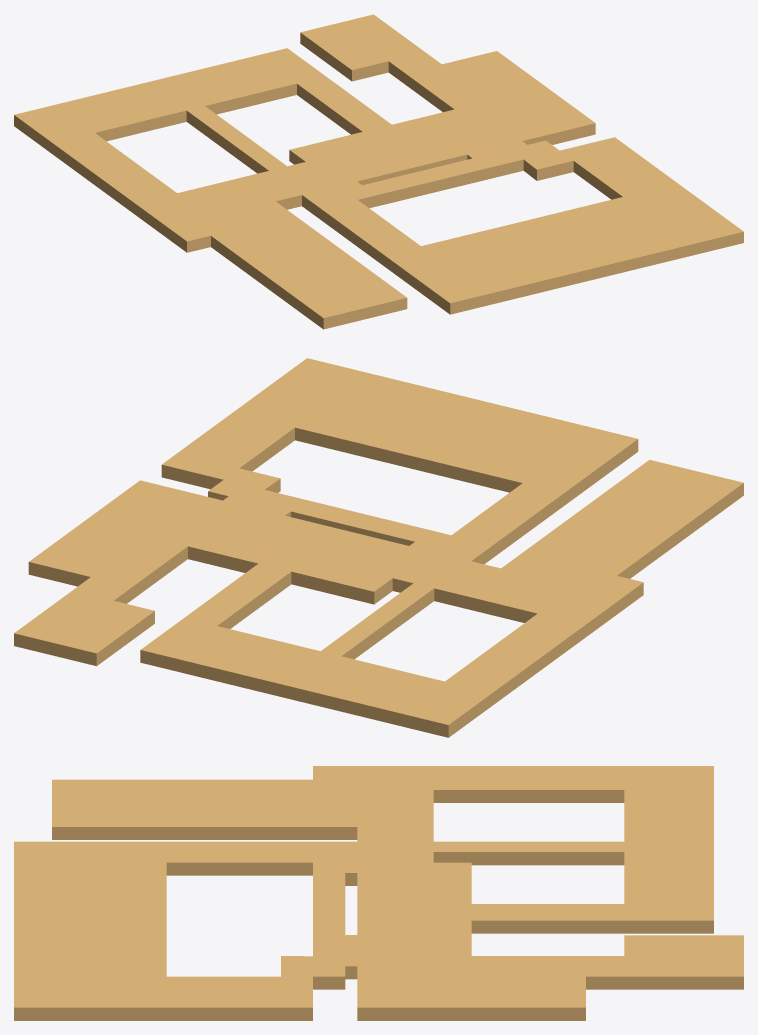
Rendered from untitleddaqaawd 1.fbx.
The picture shows the model from 3 angles, top to bottom: view 1: azimuth 30°, elevation 25°; view 2: azimuth 150°, elevation 25°; view 3: azimuth 270°, elevation 25°; orthographic projection. The views are drawn at different scales.
Parts seen in each view (by area): view 1: Cube.098; view 2: Cube.098; view 3: Cube.098.
Part boxes in pixels (x1,y1,x2,y2): Cube.098: (14, 14, 743, 329); Cube.098: (14, 358, 743, 737); Cube.098: (14, 766, 743, 1020).
Size of the model in its own units: 9909 by 253 by 12648.
